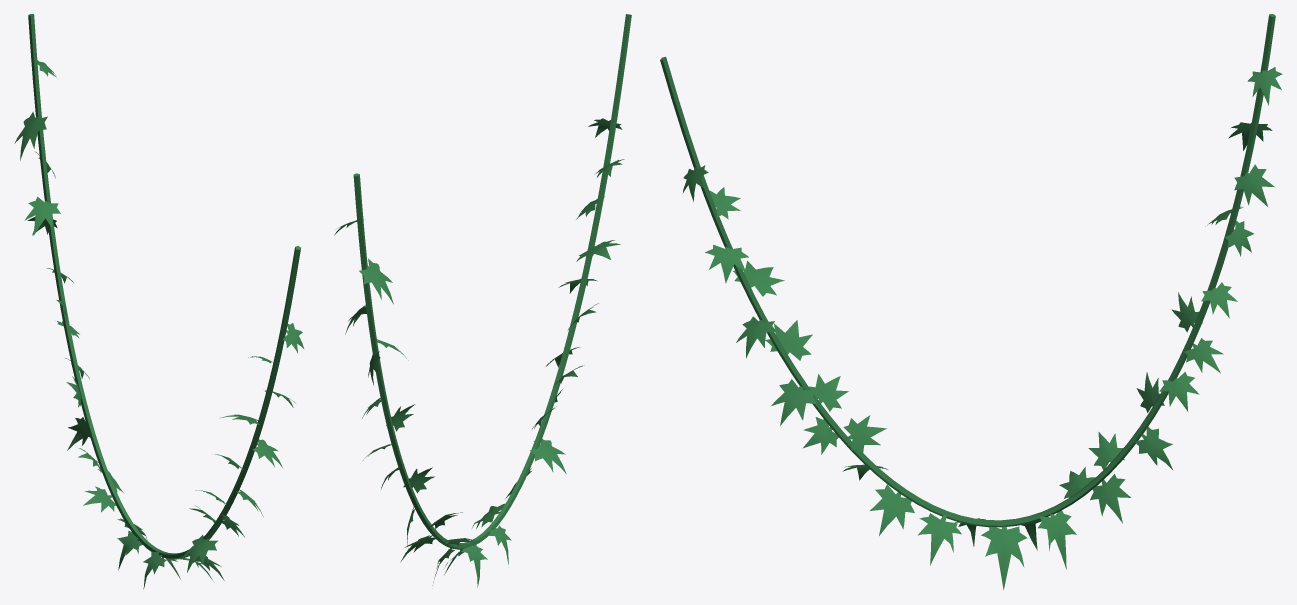
File: vine_hori_D_alangium.fbx
3 renders of one model, left to right at view 1: azimuth 30°, elevation 25°; view 2: azimuth 150°, elevation 25°; view 3: azimuth 270°, elevation 25°, orthographic. The views are drawn at different scales.
Parts seen in each view (by area): view 1: vine_hori_D_alangium_root, vine_alangium_A_leaf_B219, vine_alangium_A_leaf_B220, vine_alangium_A_leaf_B206, vine_alangium_A_leaf_B207; view 2: vine_hori_D_alangium_root, vine_alangium_A_leaf_B220, vine_alangium_A_leaf_B206; view 3: vine_hori_D_alangium_root, vine_alangium_A_leaf_B200, vine_alangium_A_leaf_B210, vine_alangium_A_leaf_B228, vine_alangium_A_leaf_B208, vine_alangium_A_leaf_B209, vine_alangium_A_leaf_B202, vine_alangium_A_leaf_B227, vine_alangium_A_leaf_B218.
Part boxes in pixels (box(x1,y1,x2,y2)): vine_hori_D_alangium_root: box(28, 14, 300, 559); vine_alangium_A_leaf_B219: box(24, 196, 60, 235); vine_alangium_A_leaf_B220: box(14, 111, 47, 160); vine_alangium_A_leaf_B206: box(182, 535, 217, 572); vine_alangium_A_leaf_B207: box(83, 486, 116, 512); vine_hori_D_alangium_root: box(353, 14, 631, 549); vine_alangium_A_leaf_B220: box(359, 258, 393, 304); vine_alangium_A_leaf_B206: box(530, 439, 566, 473); vine_hori_D_alangium_root: box(660, 14, 1275, 527); vine_alangium_A_leaf_B200: box(981, 526, 1027, 589); vine_alangium_A_leaf_B210: box(870, 484, 914, 535); vine_alangium_A_leaf_B228: box(771, 379, 816, 425); vine_alangium_A_leaf_B208: box(918, 513, 961, 565); vine_alangium_A_leaf_B209: box(1038, 510, 1076, 569); vine_alangium_A_leaf_B202: box(1090, 474, 1130, 523); vine_alangium_A_leaf_B227: box(765, 320, 812, 360); vine_alangium_A_leaf_B218: box(1234, 164, 1274, 206).
Size of the model in its own units: 40.69 by 271 by 274.
